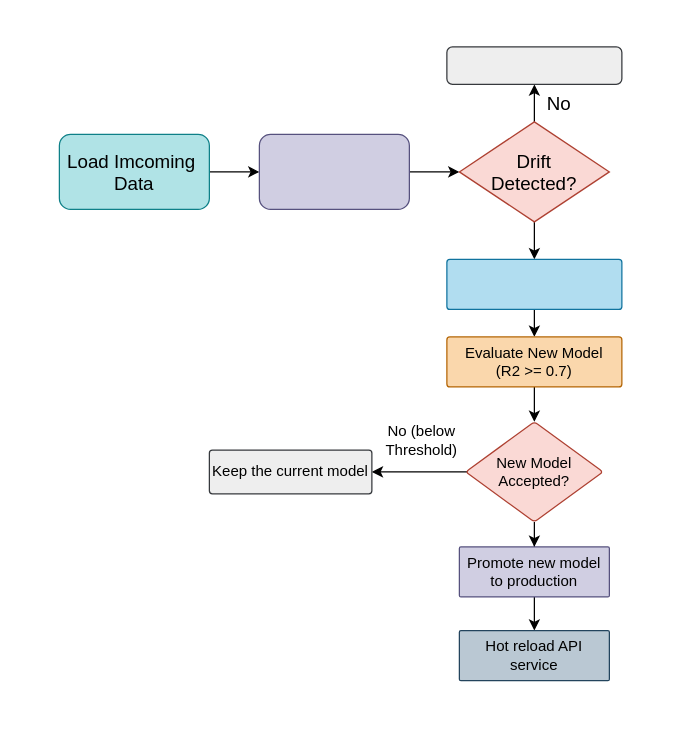
The diagram is 693 pixels wide and 739 high, and some of its shapes have lost their labels. Each missing label, with the centre of its shape:
Check for Drift (KS + PSI): point 333,171
Exit (No Action Needed): point 534,65
Retrain Model on combined data: point 534,283
